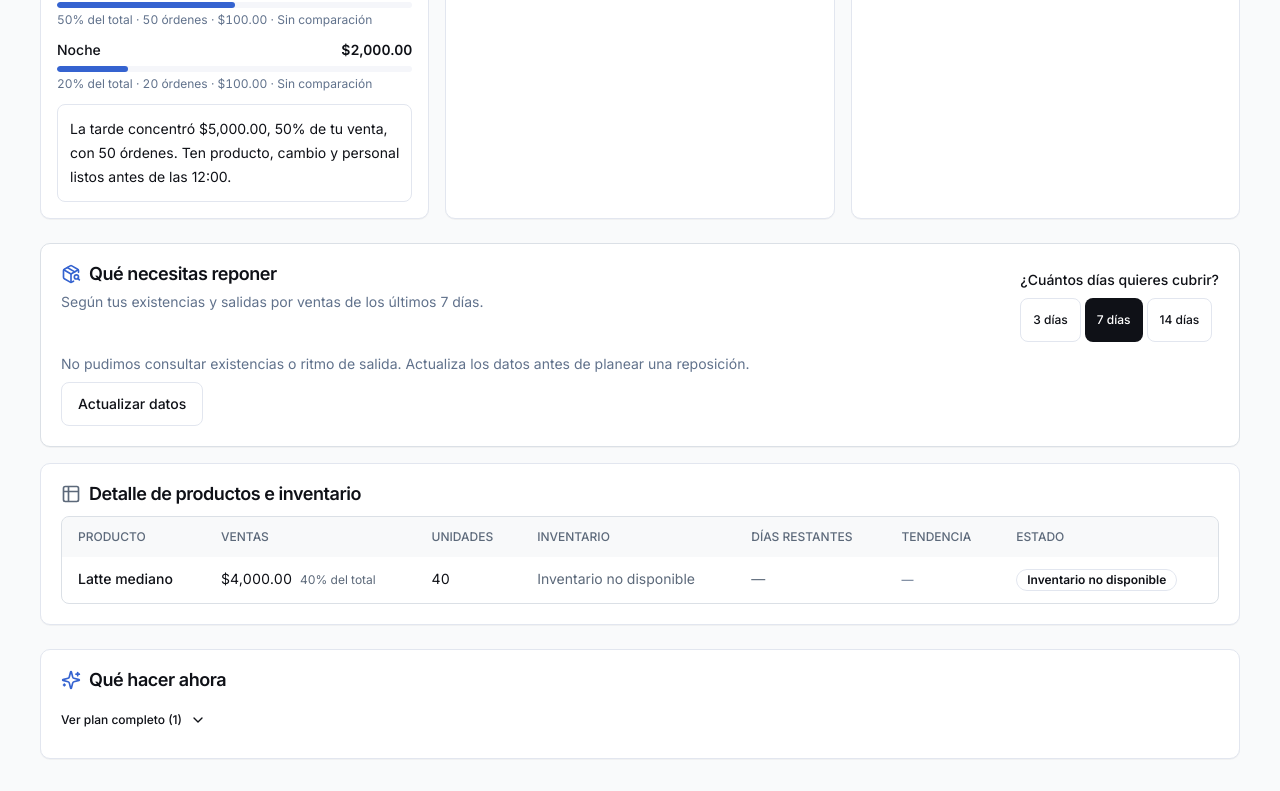
ReportsView › keeps inventory failure distinct from untracked products and recovers on refresh
(page scrolled)
Expected: the text "No pudimos consultar existencias o ritmo de salida. Actualiza los datos antes de planear una reposición." is shown, [61,355,750,372]
Expected: the text "Sin vincular" is not shown
Click the button "Actualizar datos".
click(132, 404)  # box [61,382,203,426]
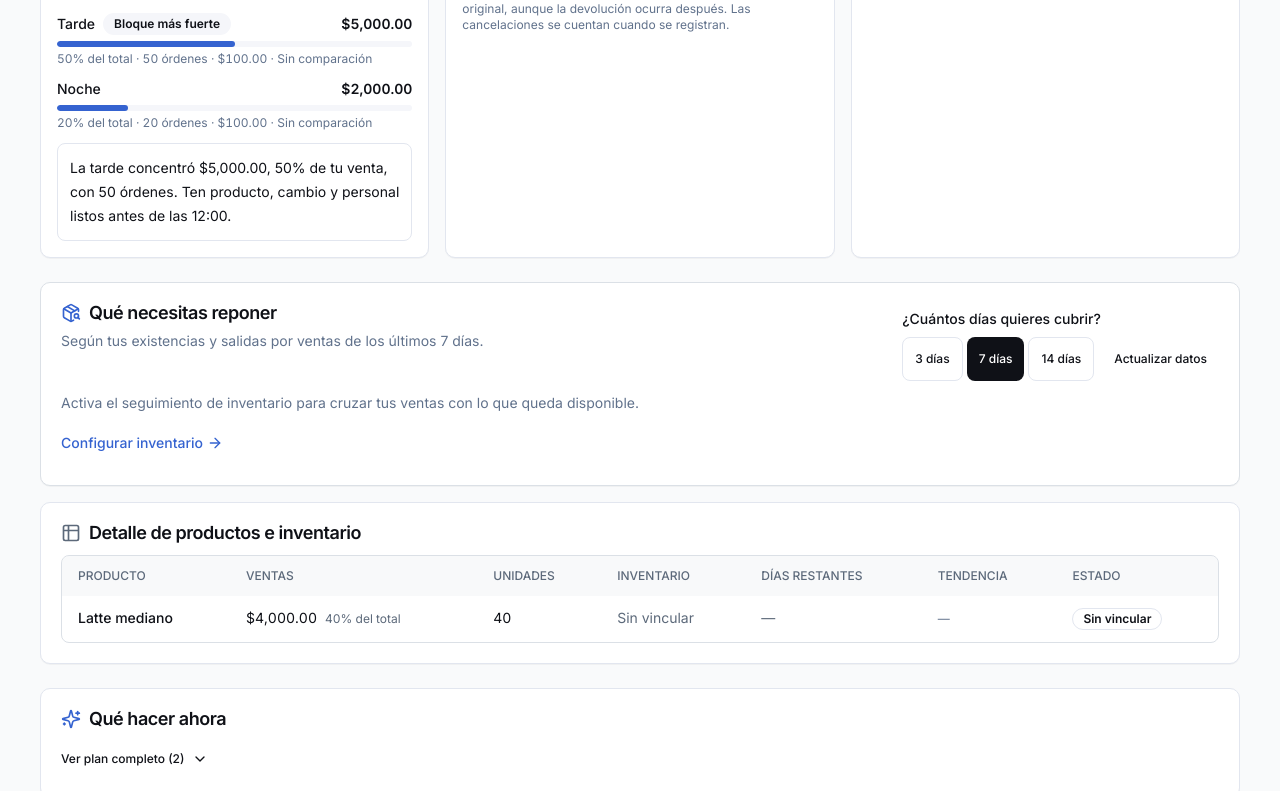
Now the text "Activa el seguimiento de inventario para cruzar tus ventas con lo que queda disponible." is shown, box [61,394,639,411]
